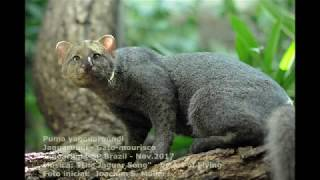Jaguarundi: (48, 31, 293, 168)
